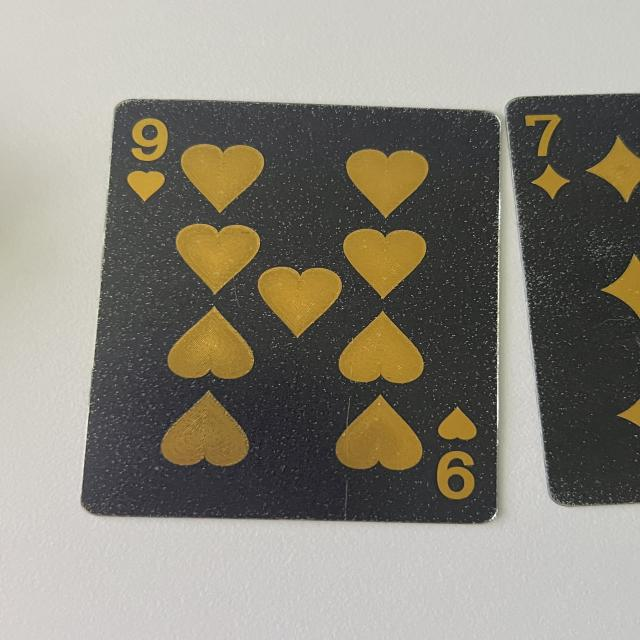7D: (511, 107, 587, 202)
9H: (122, 115, 181, 207), (436, 405, 479, 506)
